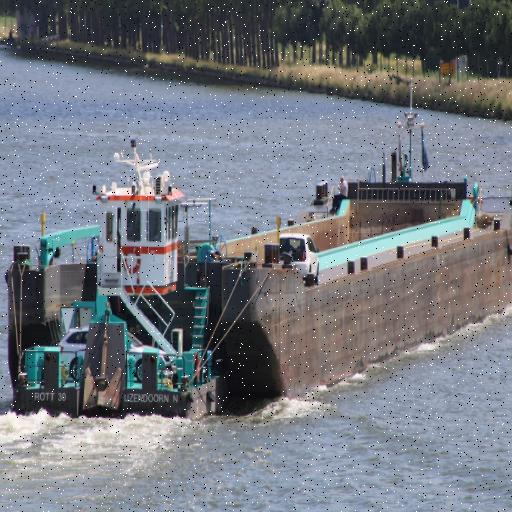tugboat: (2, 138, 230, 436)
